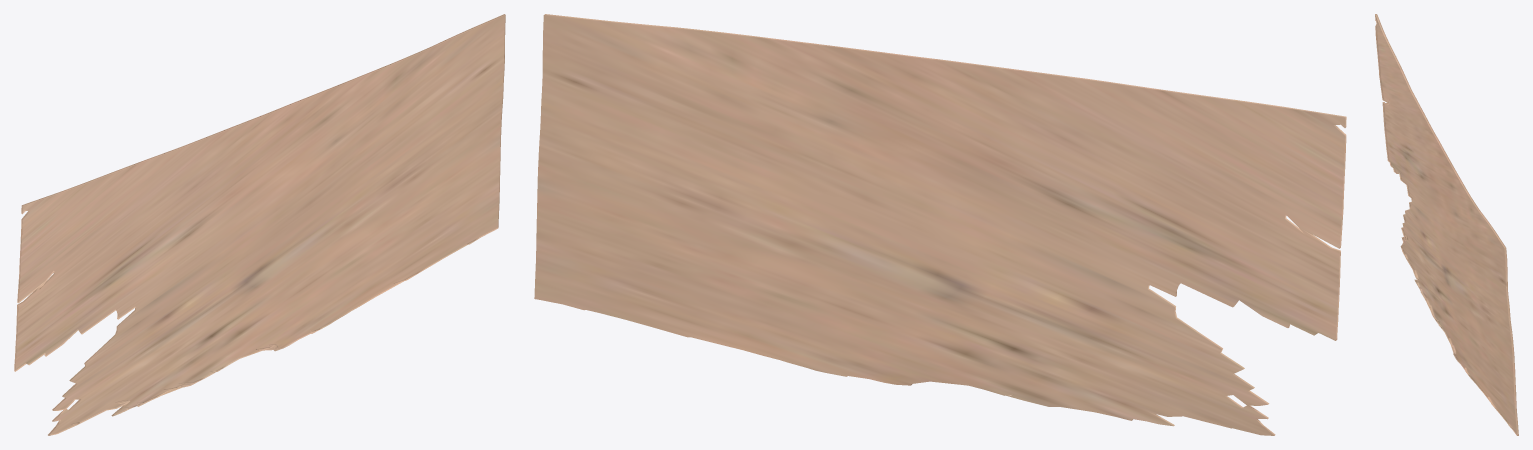
3 renders of one model, left to right at view 1: azimuth 30°, elevation 25°; view 2: azimuth 150°, elevation 25°; view 3: azimuth 270°, elevation 25°, orthographic. The views are drawn at different scales.
Size of the model in its own units: 26.62 by 11.62 by 6.92.
Materials: 1 (1 with a texture image).
